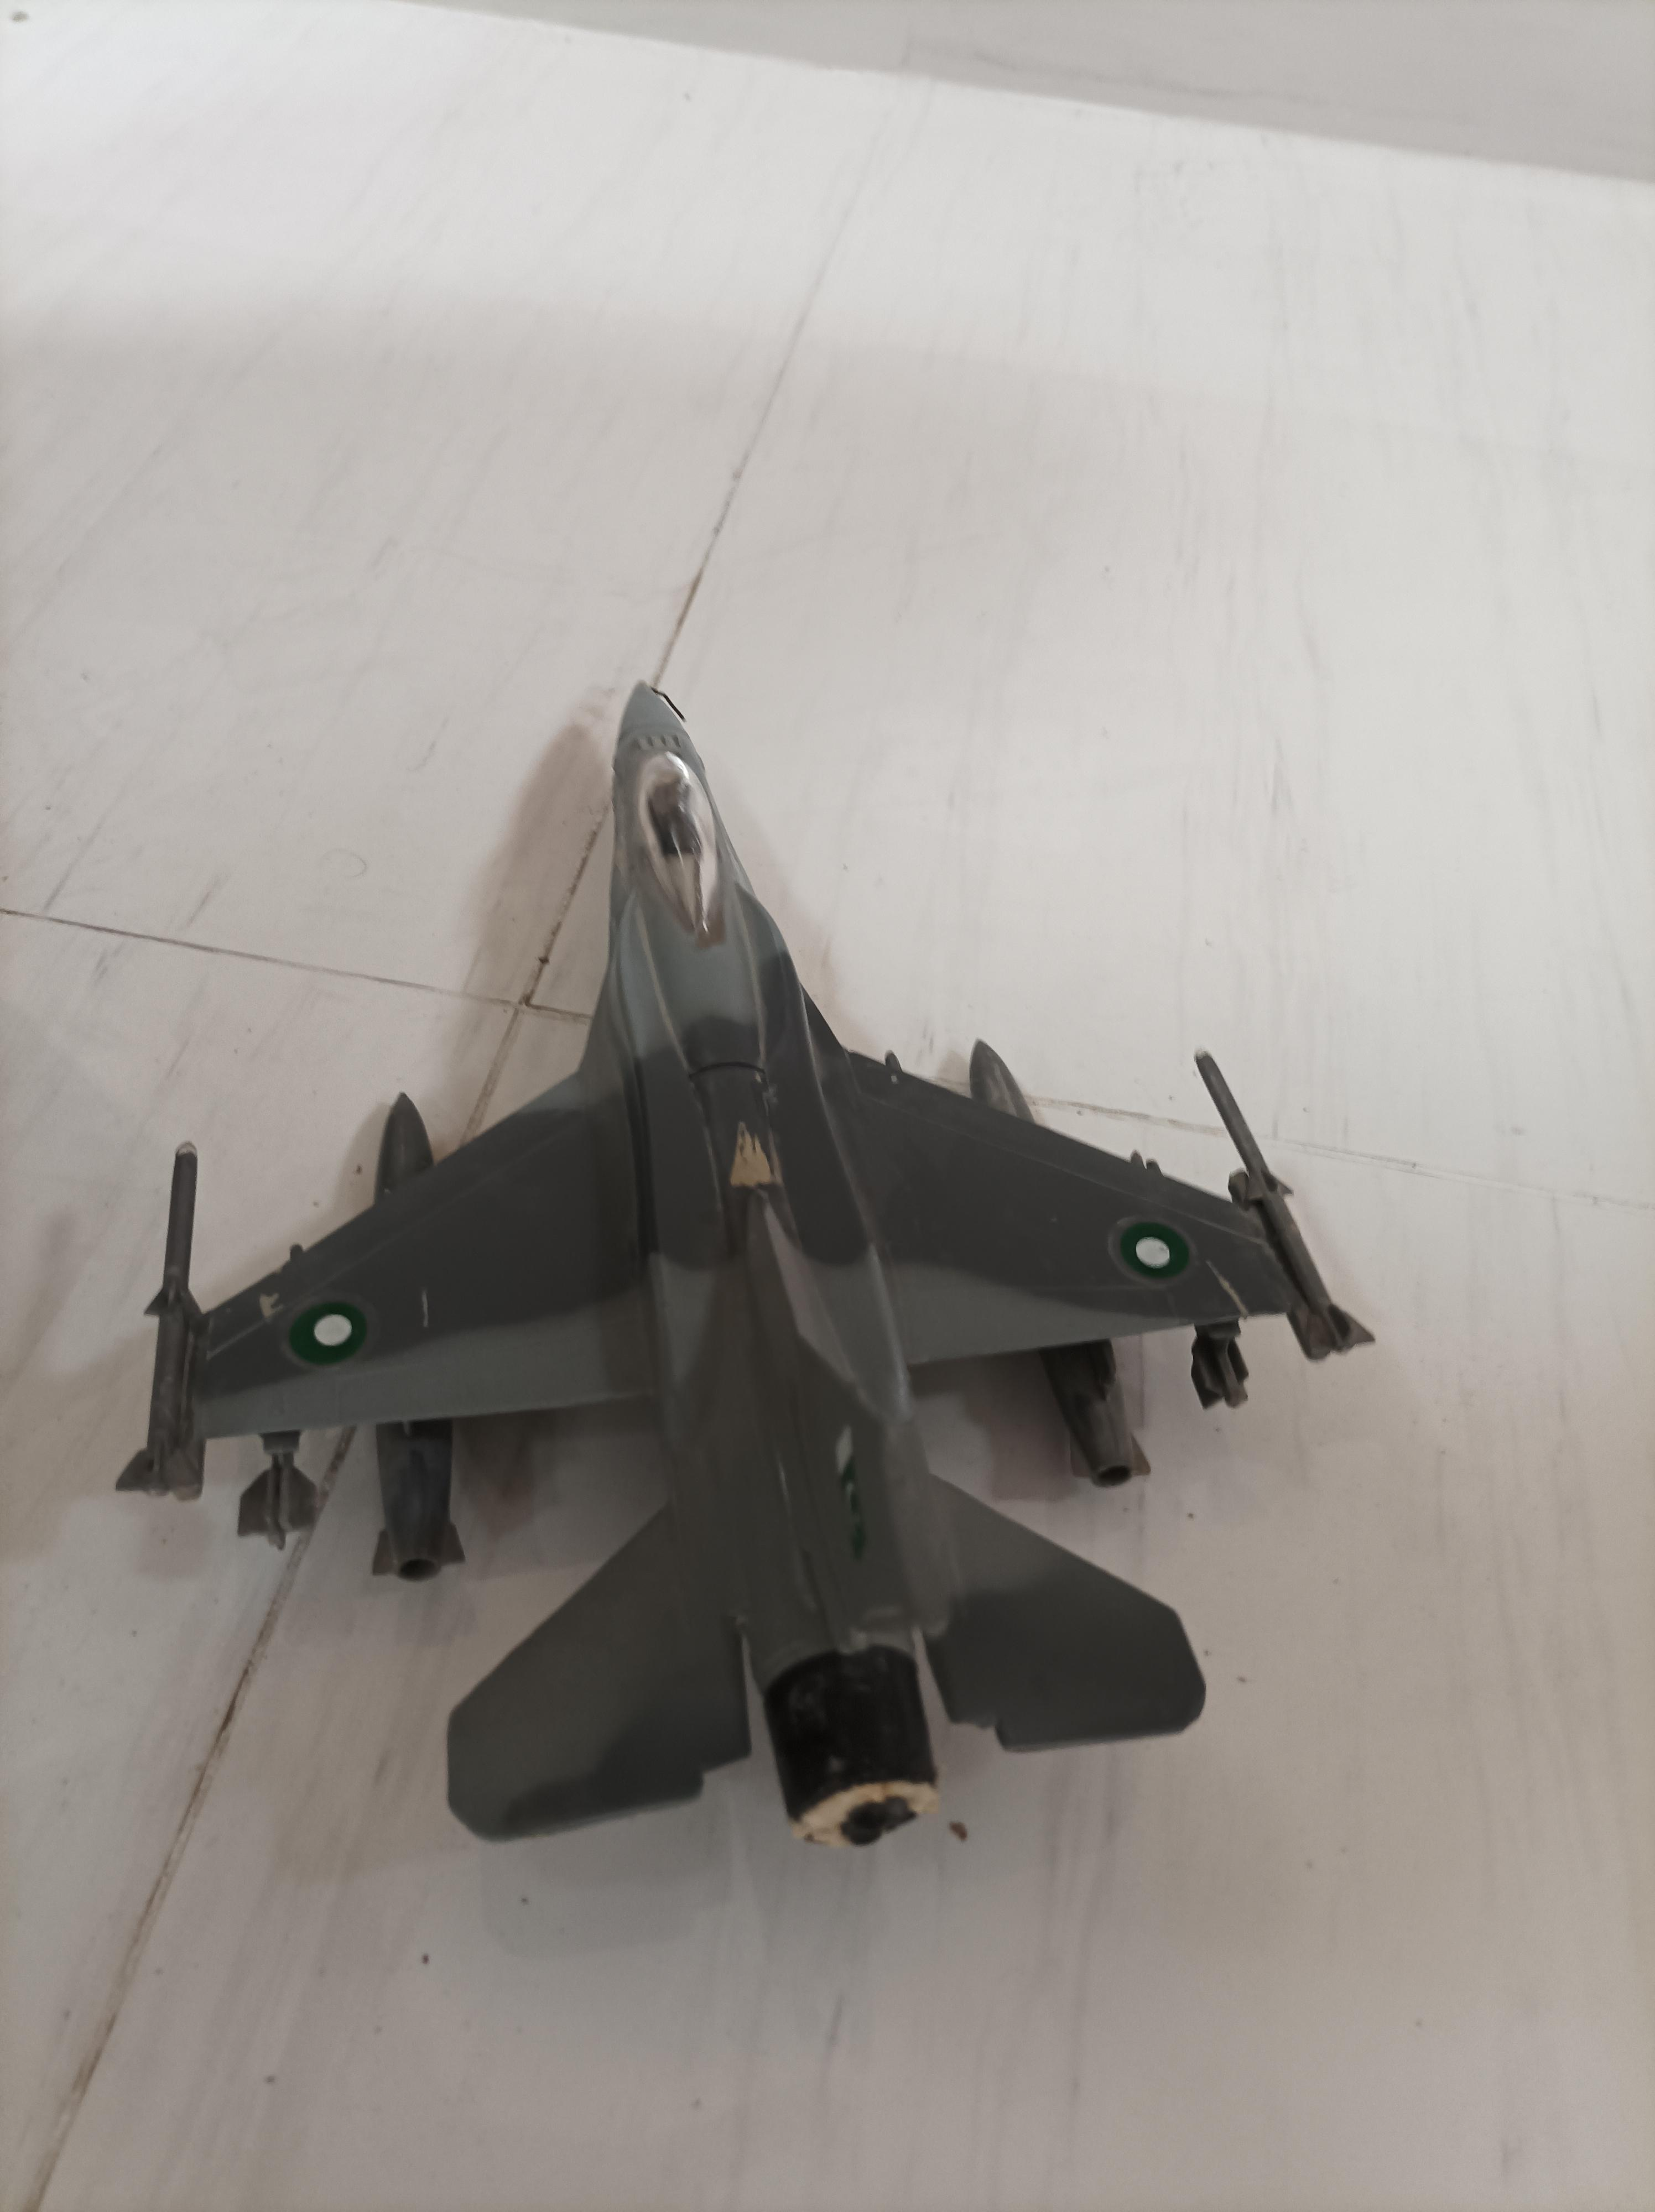Airplane: (99, 660, 1410, 1852)
